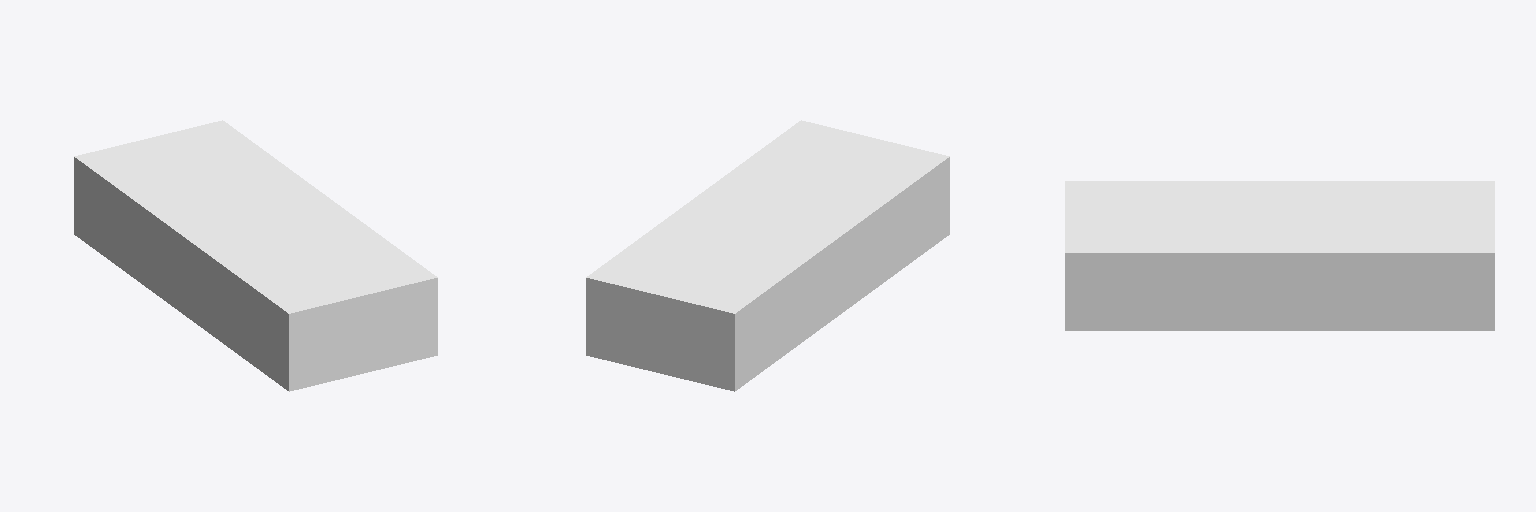
File: SH_Enviorment-28-Crate_B.obj
3 views of the same model, side by side, from view 1: azimuth 30°, elevation 25°; view 2: azimuth 150°, elevation 25°; view 3: azimuth 270°, elevation 25° (orthographic).
Parts seen in each view (by area): view 1: Crate_B; view 2: Crate_B; view 3: Crate_B.
Boxes of the visible parts, x1=… form: Crate_B: x1=74, y1=120, x2=437, y2=391; Crate_B: x1=586, y1=120, x2=949, y2=391; Crate_B: x1=1065, y1=181, x2=1494, y2=330.
Size of the model in its own units: 0.4 by 0.2 by 1.